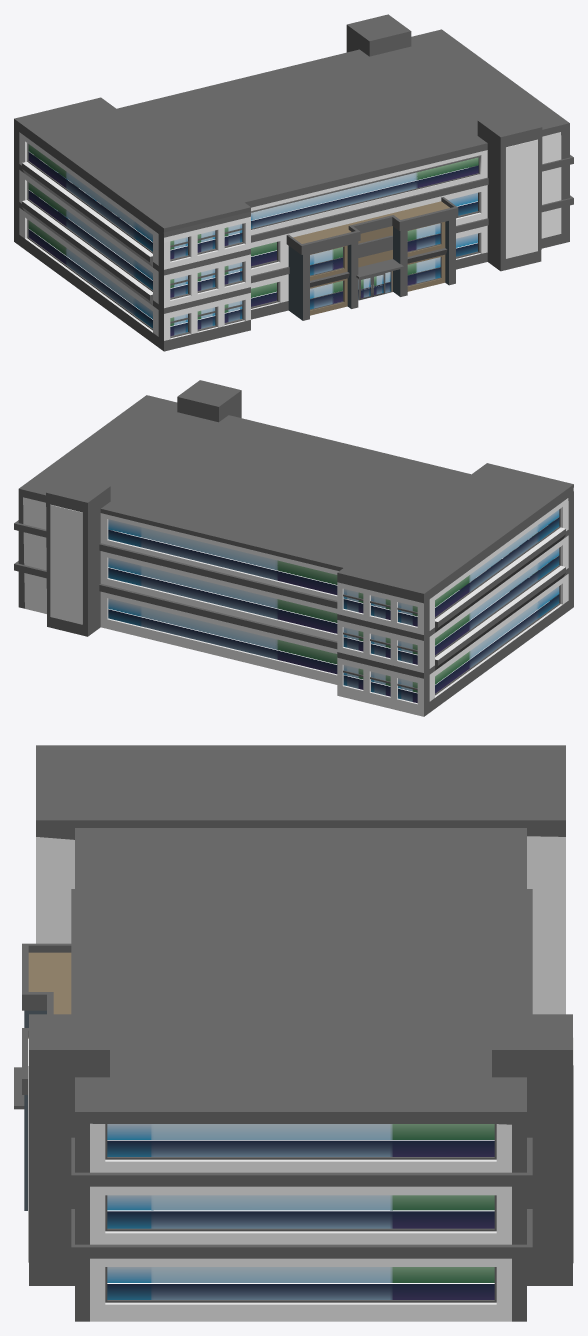
The model's file is SMA_Building.fbx.
The picture shows the model from 3 angles, top to bottom: view 1: azimuth 30°, elevation 25°; view 2: azimuth 150°, elevation 25°; view 3: azimuth 270°, elevation 25°; orthographic projection. The views are drawn at different scales.
Visible parts, largest first — view 1: SMA_Bangunan, SMA_Bangunan2; view 2: SMA_Bangunan; view 3: SMA_Bangunan, SMA_Bangunan2.
Part boxes in pixels (bbox=[...]): SMA_Bangunan: bbox=[14, 14, 573, 351]; SMA_Bangunan2: bbox=[286, 197, 458, 320]; SMA_Bangunan: bbox=[14, 380, 573, 716]; SMA_Bangunan: bbox=[28, 745, 573, 1321]; SMA_Bangunan2: bbox=[14, 943, 71, 1210].
Size of what is drawn, in the model's own units: 6686 by 2025 by 4343.
